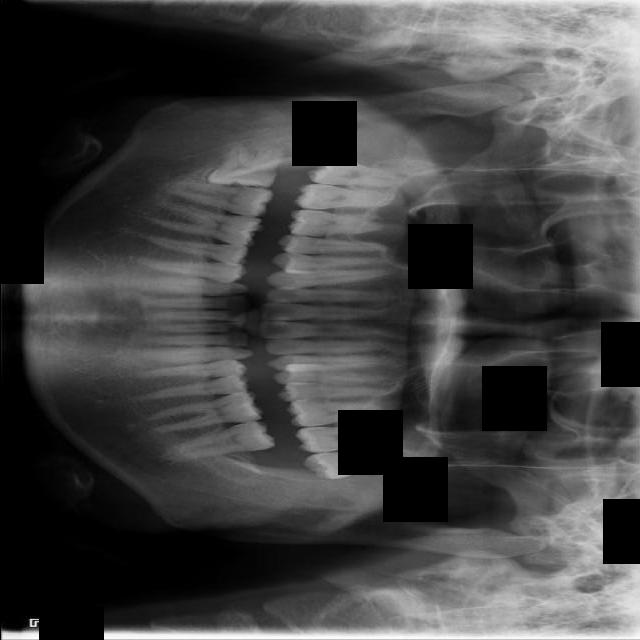3M ESPE Implant: (306, 156, 413, 188)
73: (33, 592, 52, 600)
BioHorizons Implant: (293, 426, 421, 453)
BioLife Implant: (300, 443, 414, 482)
Blue Sky Bio Implant: (177, 418, 275, 459)
Caries: (292, 184, 398, 210)
Implant: (168, 178, 273, 219)
Keystone Dental Implant: (206, 141, 284, 190)
